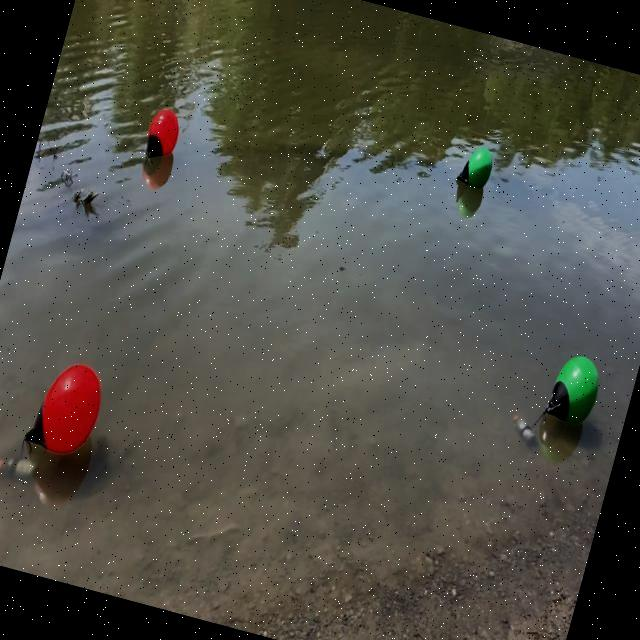buoy: (17, 348, 114, 464), (540, 349, 606, 432), (138, 100, 186, 166), (453, 140, 497, 195)
